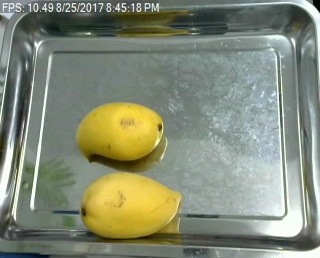Mango: (77, 172, 182, 238), (73, 102, 169, 163)
